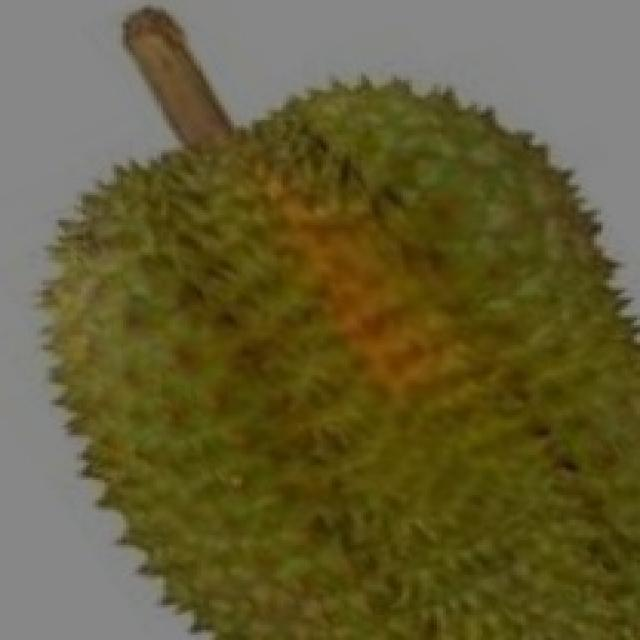fruit: (3, 245, 379, 640)
